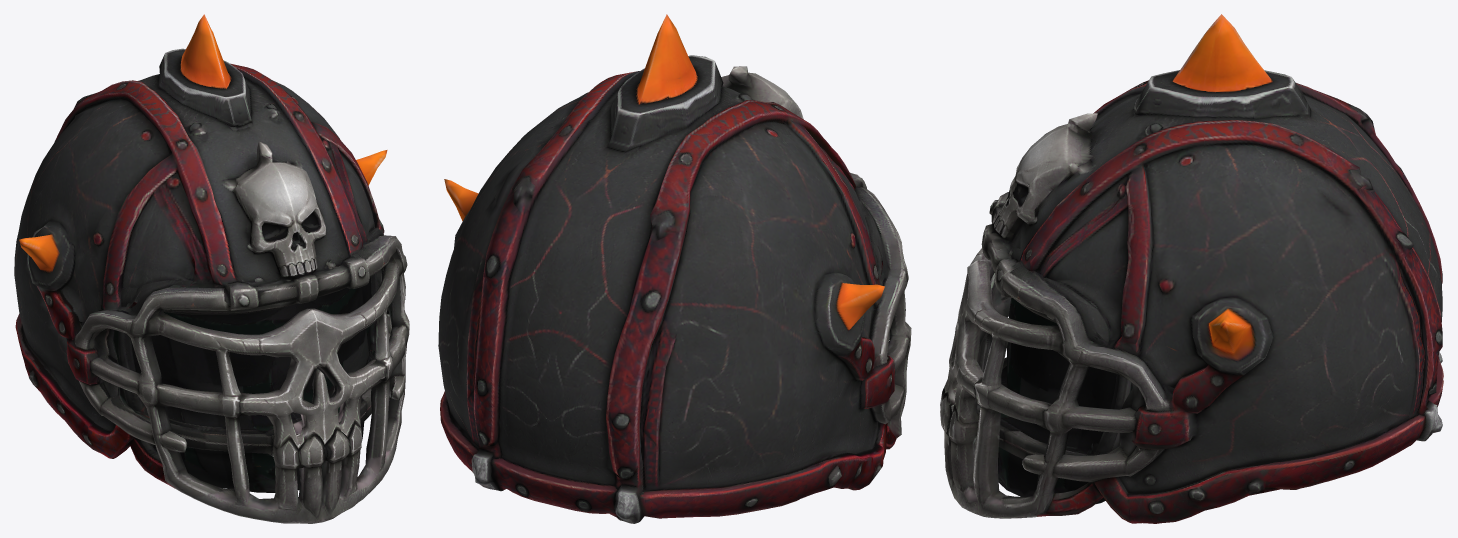
File: helmet_off.glb
3 renders of one model, left to right at view 1: azimuth 30°, elevation 25°; view 2: azimuth 150°, elevation 25°; view 3: azimuth 270°, elevation 25°, orthographic. The views are drawn at different scales.
Bounding box in the file's own units: 1.82 × 2 × 1.9.
Materials: 1 (1 with a texture image).
